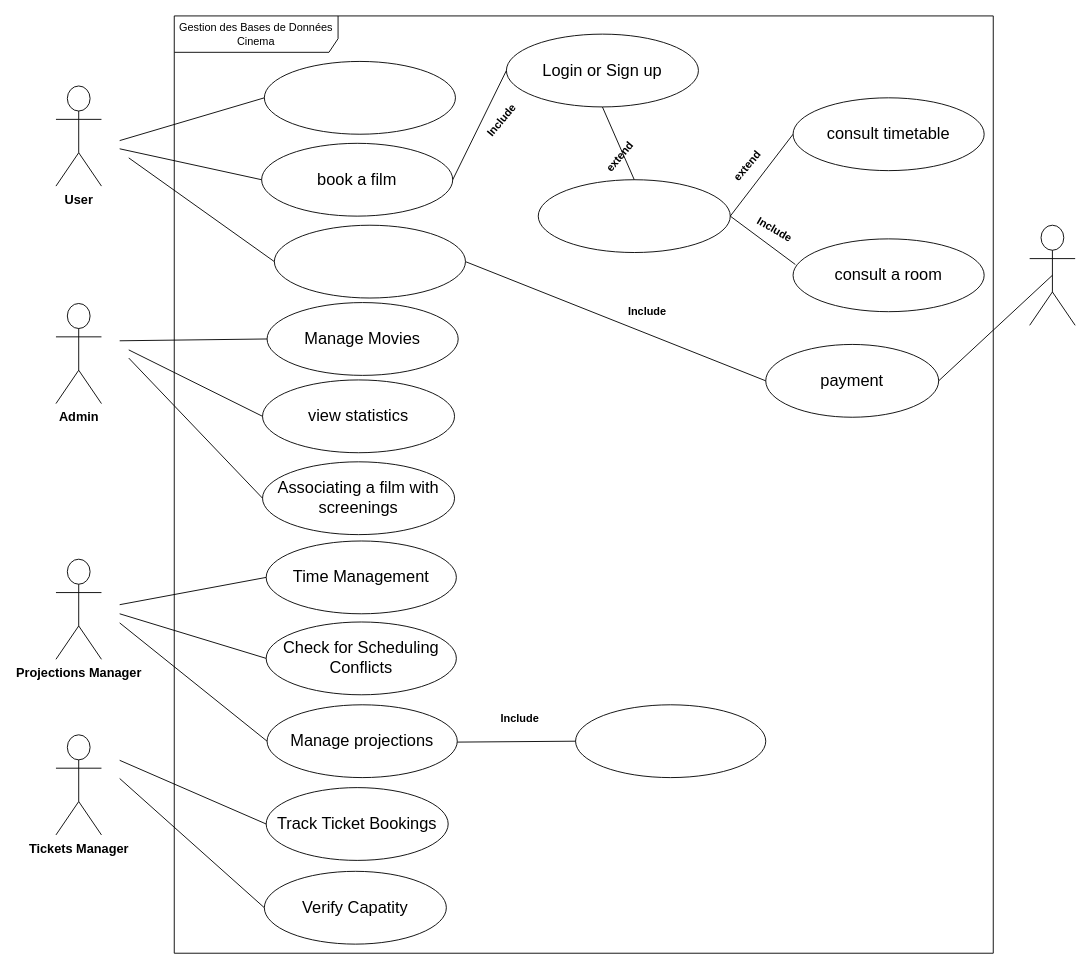
The diagram is 1091 pixels wide and 969 high, and some of its shapes have lost their labels. Each missing label, with the centre of its shape:
"Bank" goes at pixel 1052 274.
"Book Ticket" goes at pixel 369 261.
"Home Page" goes at pixel 359 97.
"specifying date, time and room" goes at pixel 670 741.
"View Movies and Showtimes" goes at pixel 633 216.
